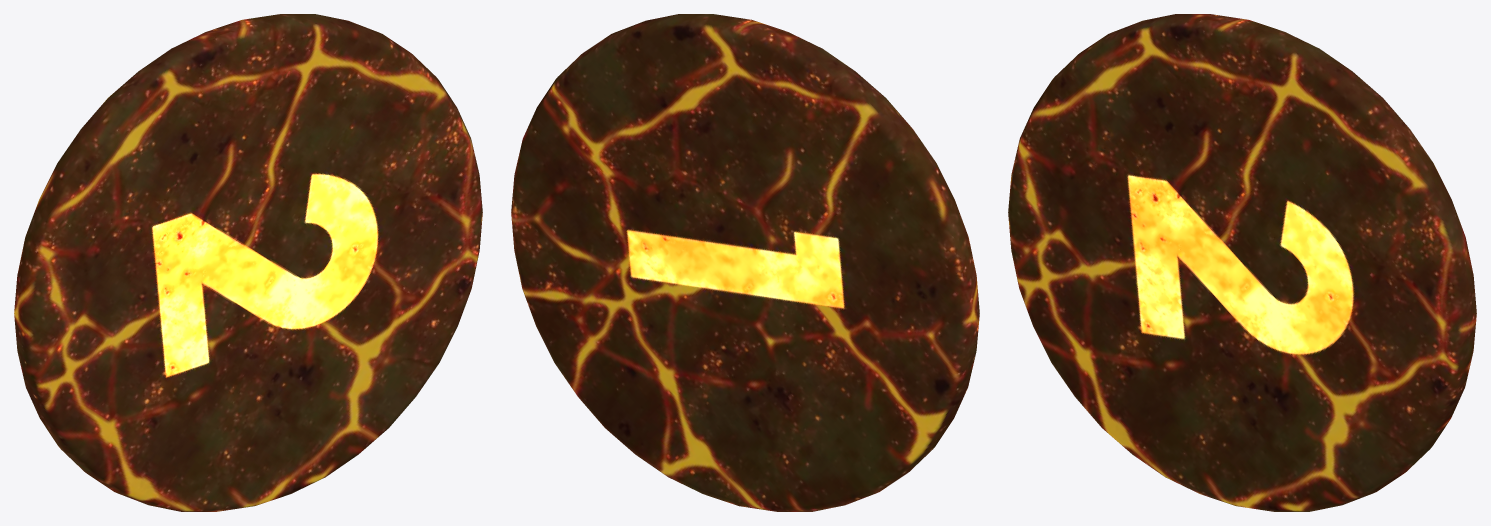
The model's file is magma20_d2.gltf.
The picture shows the model from 3 angles, left to right: view 1: azimuth 30°, elevation 25°; view 2: azimuth 150°, elevation 25°; view 3: azimuth 330°, elevation 25°; orthographic projection.
Visible parts, largest first — view 1: dice_2; view 2: dice_2; view 3: dice_2.
Part boxes in pixels (left/top/right/bottom): dice_2: left=14, top=14, right=482, bottom=511; dice_2: left=511, top=14, right=979, bottom=511; dice_2: left=1008, top=14, right=1476, bottom=511.
Bounding box in the file's own units: 180 × 180 × 12.56.
1 material, 1 textured.
